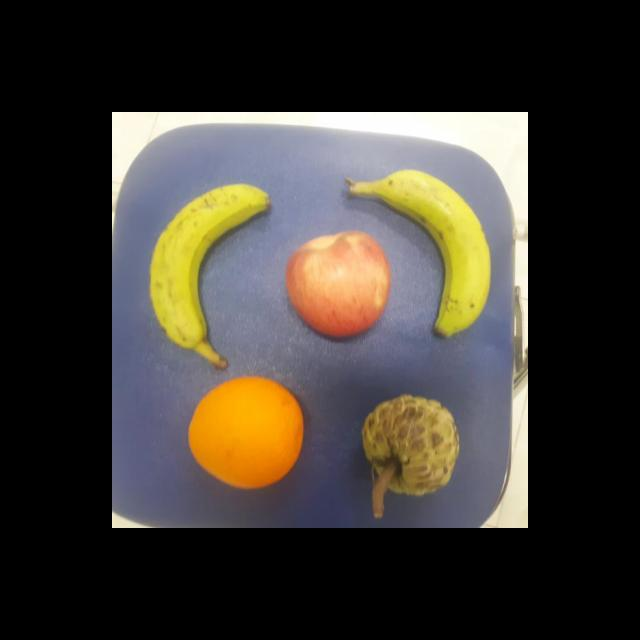Sakya fruit: (362, 394, 459, 496)
apple: (285, 228, 394, 332)
banana: (346, 168, 490, 337), (148, 182, 272, 362)
orange: (186, 374, 304, 490)
